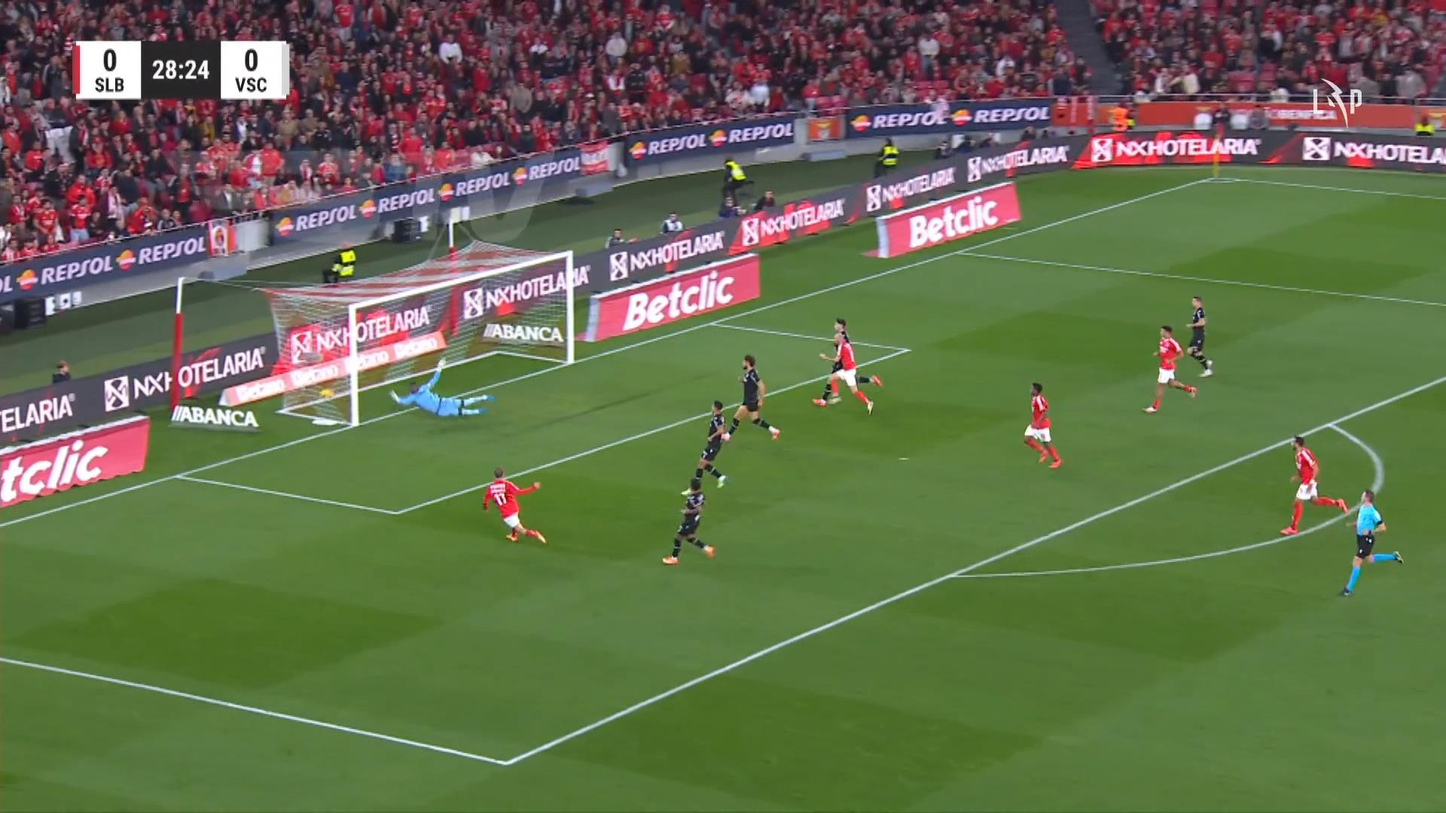ball: (319, 389, 335, 398)
goalkeeper: (389, 357, 494, 418)
player: (1337, 488, 1403, 597), (1279, 434, 1348, 536), (812, 317, 883, 407), (481, 466, 546, 544), (1142, 324, 1197, 413), (725, 354, 780, 441), (661, 477, 715, 565), (828, 333, 874, 413), (1022, 382, 1063, 469), (693, 399, 731, 489), (1185, 295, 1213, 377)
